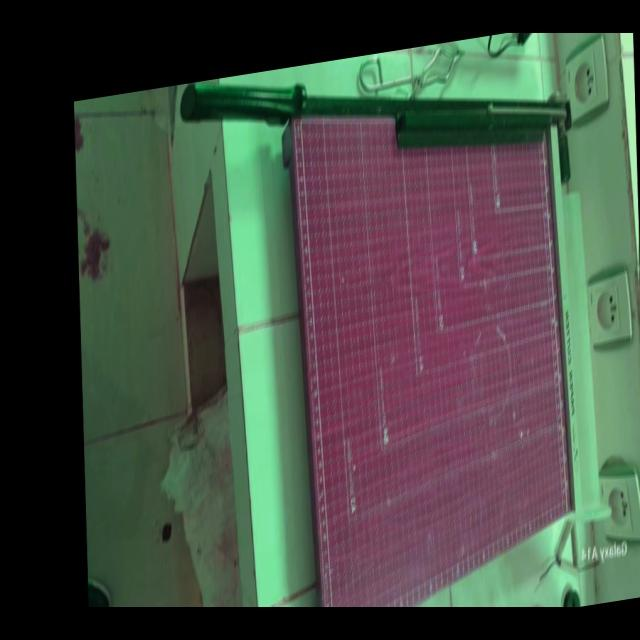TLC Cutter: (168, 33, 592, 607)
